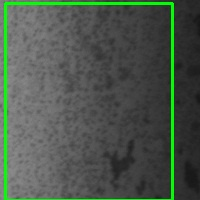pitted_surface: (5, 3, 172, 200)
